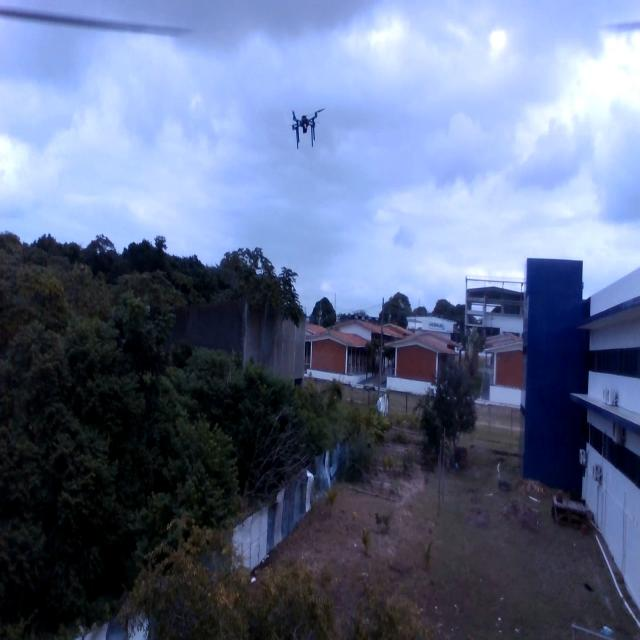-uav-: (282, 99, 332, 156)
